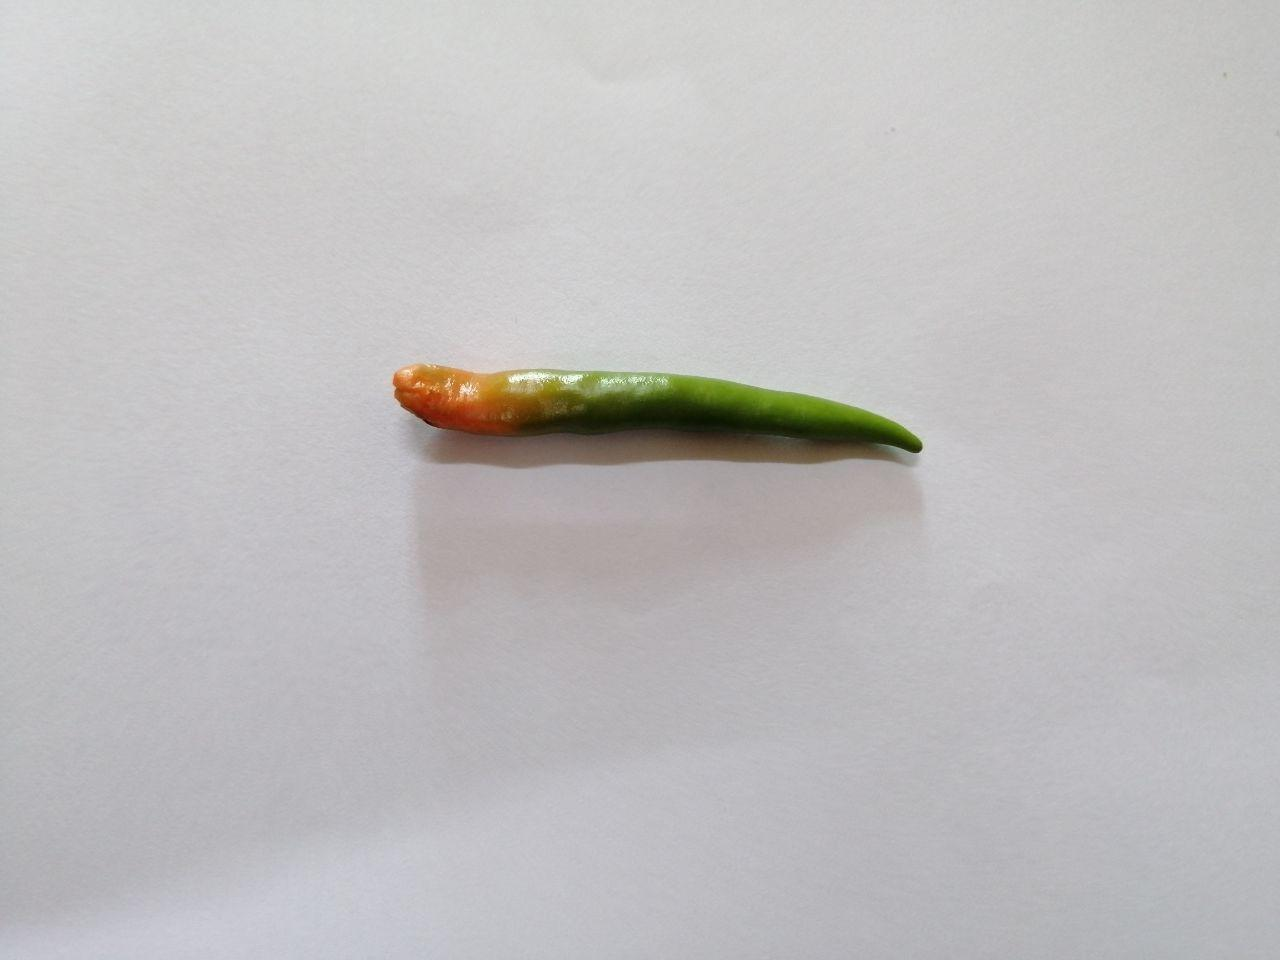lada hijau: (369, 333, 977, 500)
